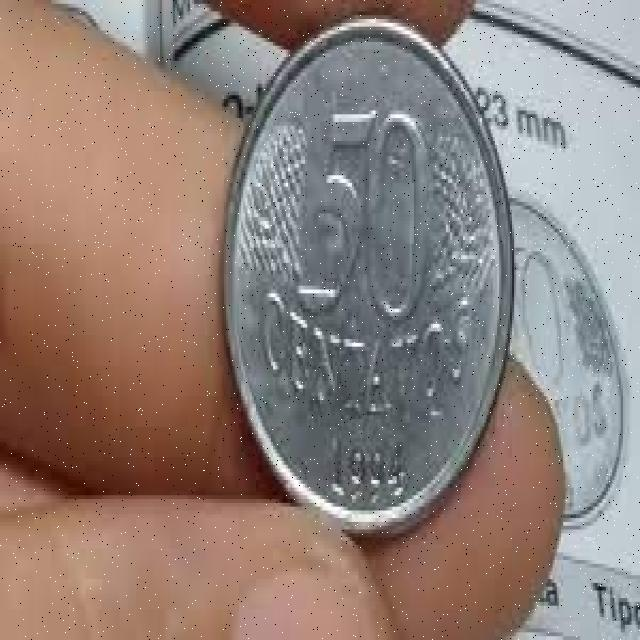50 cent: (230, 18, 512, 540)
